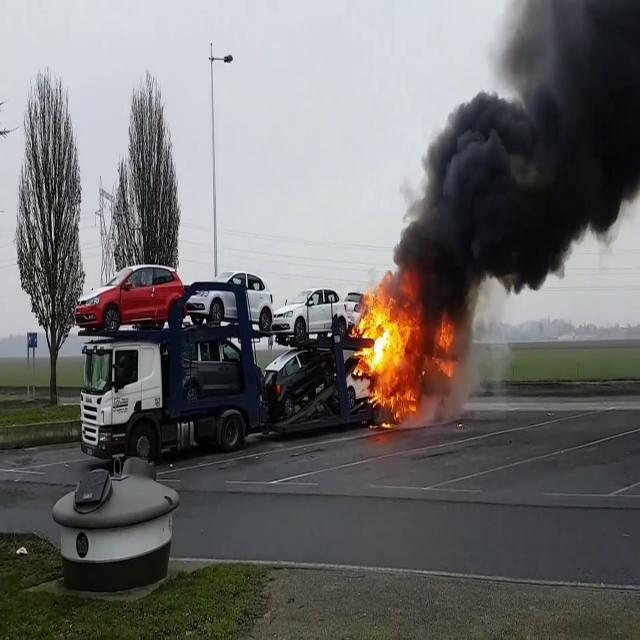Fire: (350, 289, 422, 408), (432, 311, 458, 373)
Smoke: (384, 0, 640, 331)
